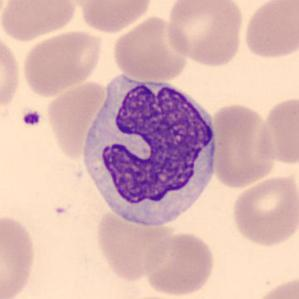Monocyte: (76, 67, 224, 235)
Platelets: (20, 108, 42, 128)
RBC: (208, 102, 278, 190), (93, 208, 175, 282), (19, 28, 104, 97), (164, 0, 246, 68), (111, 14, 190, 82), (229, 172, 298, 249), (44, 77, 108, 160), (142, 229, 217, 298), (242, 0, 298, 62), (0, 211, 39, 299), (0, 0, 79, 43), (254, 93, 299, 168), (73, 0, 155, 35), (0, 31, 23, 116), (250, 274, 298, 299), (115, 293, 192, 299)
